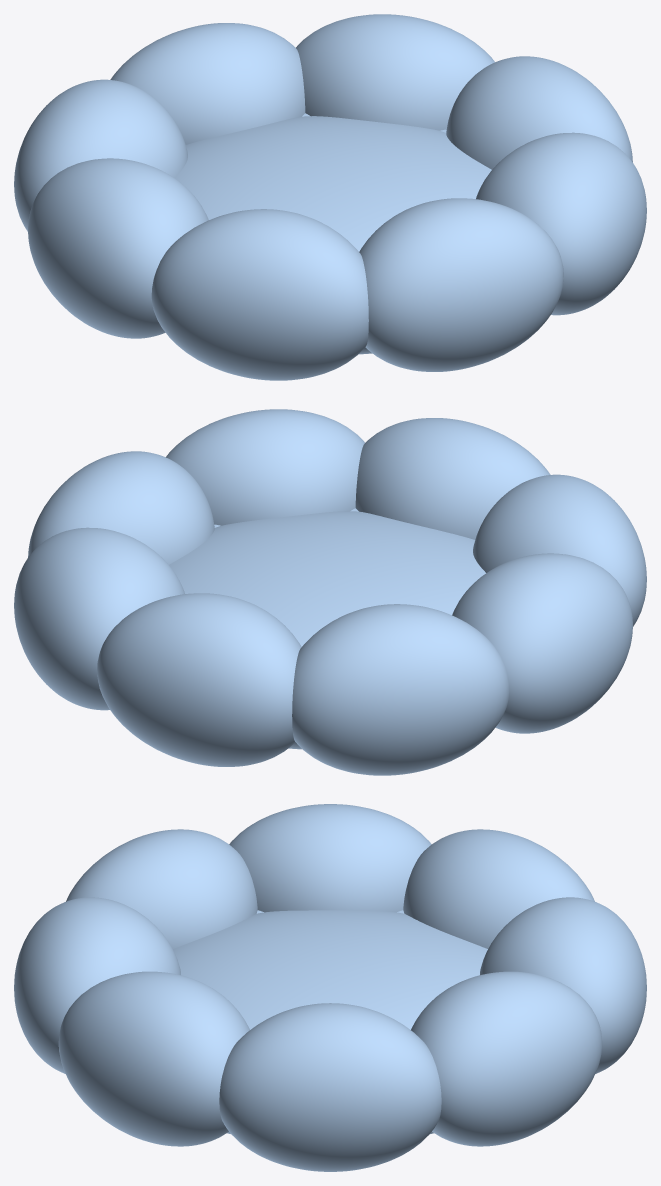
The model's file is Cushion.fbx.
3 views of the same model, one above another, from view 1: azimuth 30°, elevation 25°; view 2: azimuth 150°, elevation 25°; view 3: azimuth 270°, elevation 25° (orthographic).
Visible parts, largest first — view 1: Cushion_Depressed_Center; view 2: Cushion_Depressed_Center; view 3: Cushion_Depressed_Center.
Boxes of the visible parts, x1,y1,x2,y2 form: Cushion_Depressed_Center: [14, 14, 646, 380]; Cushion_Depressed_Center: [14, 409, 646, 775]; Cushion_Depressed_Center: [14, 804, 646, 1171].
Size of the model in its own units: 89.99 by 27.24 by 89.99.
